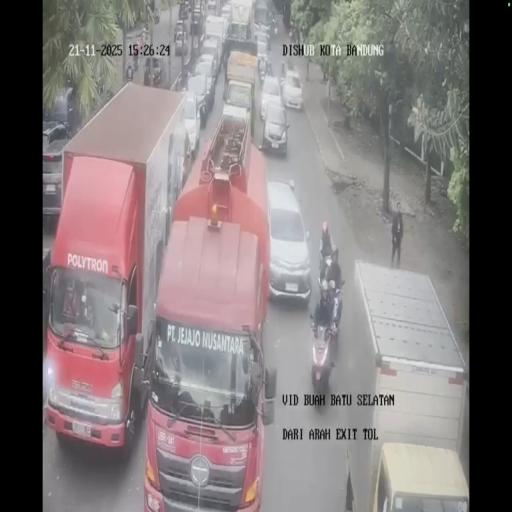3: (44, 81, 192, 457), (346, 262, 467, 510), (125, 27, 147, 55), (191, 0, 205, 36)
car: (266, 181, 312, 305), (222, 80, 254, 138), (260, 99, 290, 155), (192, 58, 218, 116), (180, 92, 200, 156), (282, 68, 304, 111), (203, 30, 223, 70), (253, 22, 270, 50), (174, 26, 188, 55), (220, 3, 232, 27)
truck: (318, 240, 334, 282)
